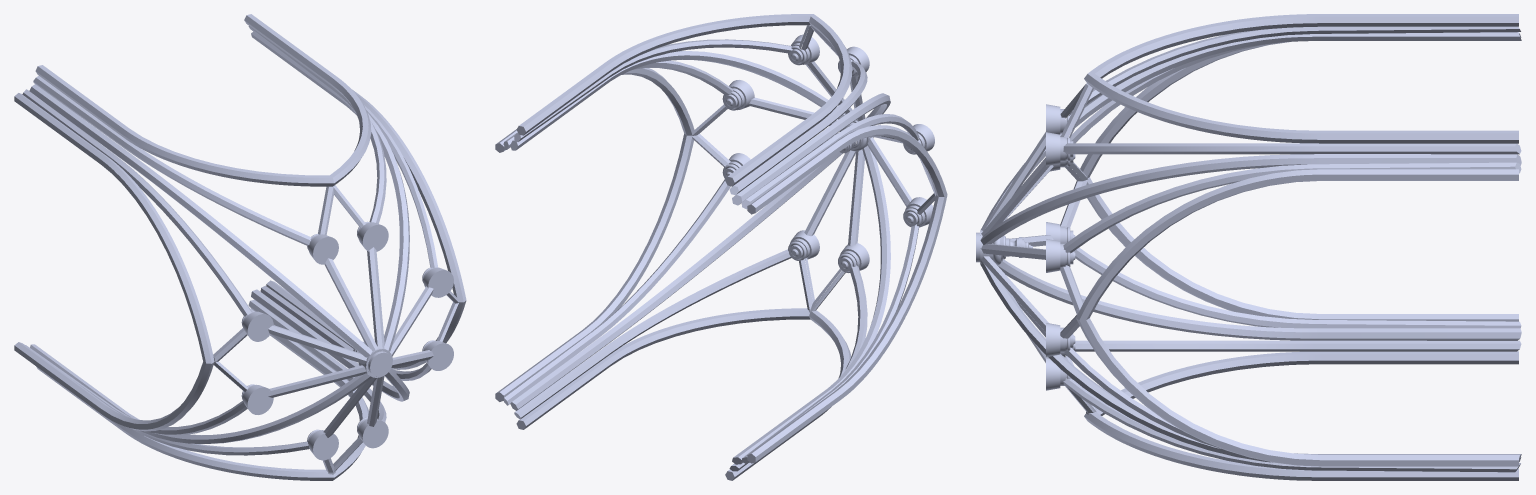
File: voute_gothique-opt.glb
3 renders of one model, left to right at view 1: azimuth 30°, elevation 25°; view 2: azimuth 150°, elevation 25°; view 3: azimuth 270°, elevation 25°, orthographic. The views are drawn at different scales.
Parts seen in each view (by area): view 1: clé de voûte; view 2: clé de voûte; view 3: clé de voûte.
Boxes of the visible parts, bbox=[...] form: clé de voûte: bbox=[14, 14, 466, 480]; clé de voûte: bbox=[495, 14, 947, 480]; clé de voûte: bbox=[976, 14, 1521, 480].
Size of the model in its own units: 0.8697 by 0.9677 by 1.38.
